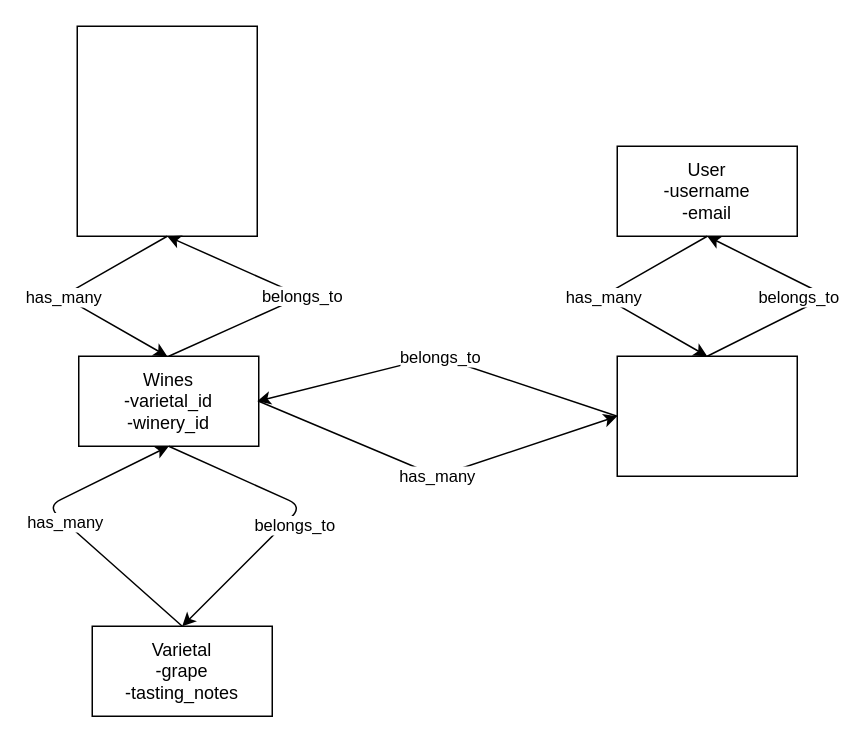
Some shapes in this 867 by 743 pixel diagram are drawn without their labels. The centre of each missing label's shape, as x and y in pixels:
UserWine -wine_id -user_id -status -review: (706,415)
Winery -address -link -image -description -address -latitude -longitude: (166,130)
